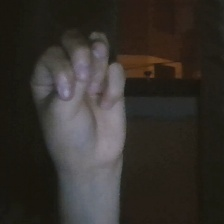N: (21, 20, 147, 184)
